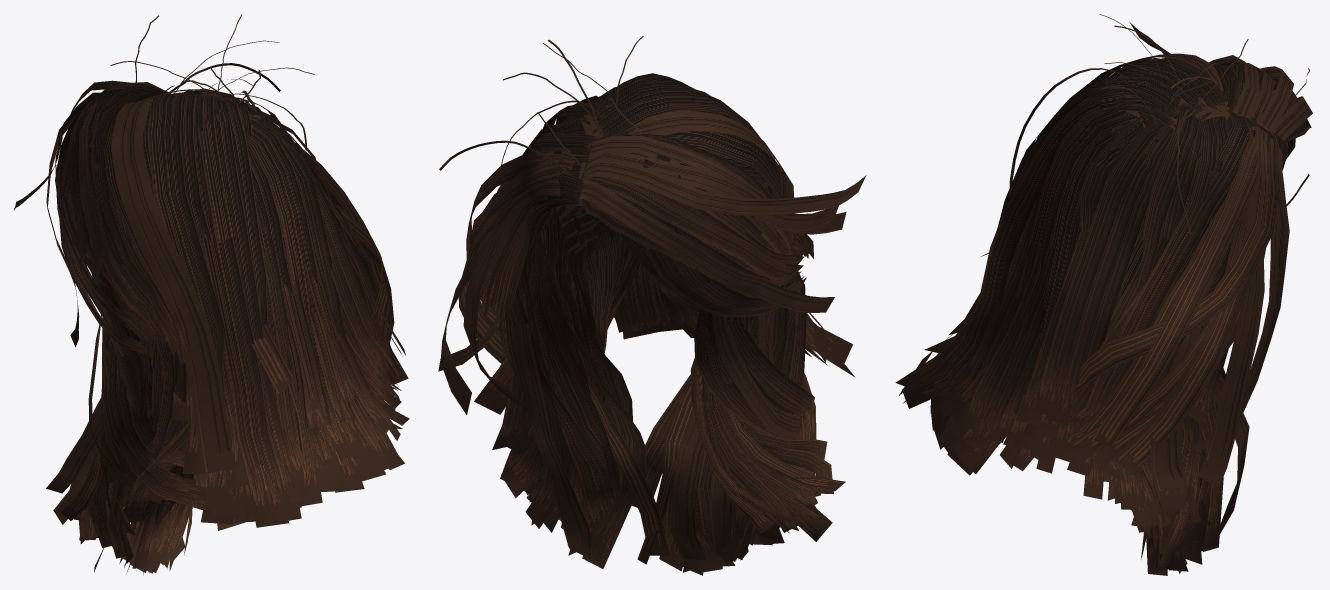
The model's file is Long.fbx.
The picture shows the model from 3 angles, left to right: view 1: azimuth 30°, elevation 25°; view 2: azimuth 150°, elevation 25°; view 3: azimuth 270°, elevation 25°; orthographic projection. The views are drawn at different scales.
Parts seen in each view (by area): view 1: hair; view 2: hair; view 3: hair.
Part boxes in pixels (box(x1,y1,x2,y2)): hair: box(14, 14, 409, 574); hair: box(438, 36, 866, 575); hair: box(895, 14, 1312, 575).
Bounding box in the file's own units: 5.83 × 7.24 × 5.17.
